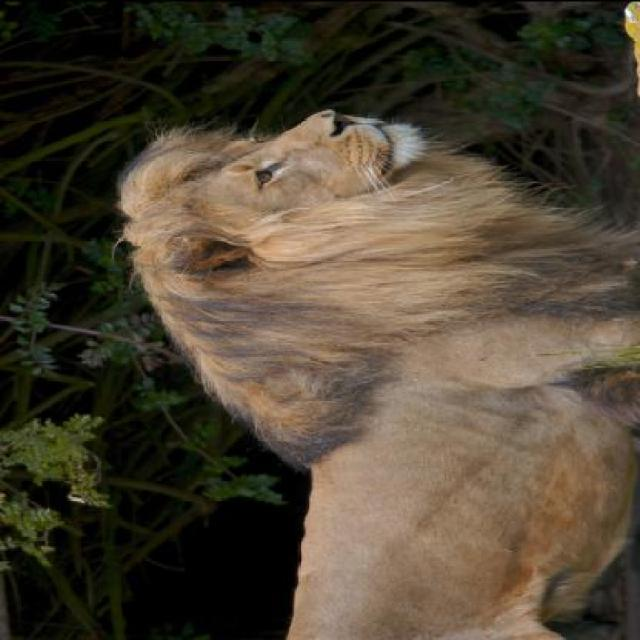Lion: (114, 99, 638, 638)
